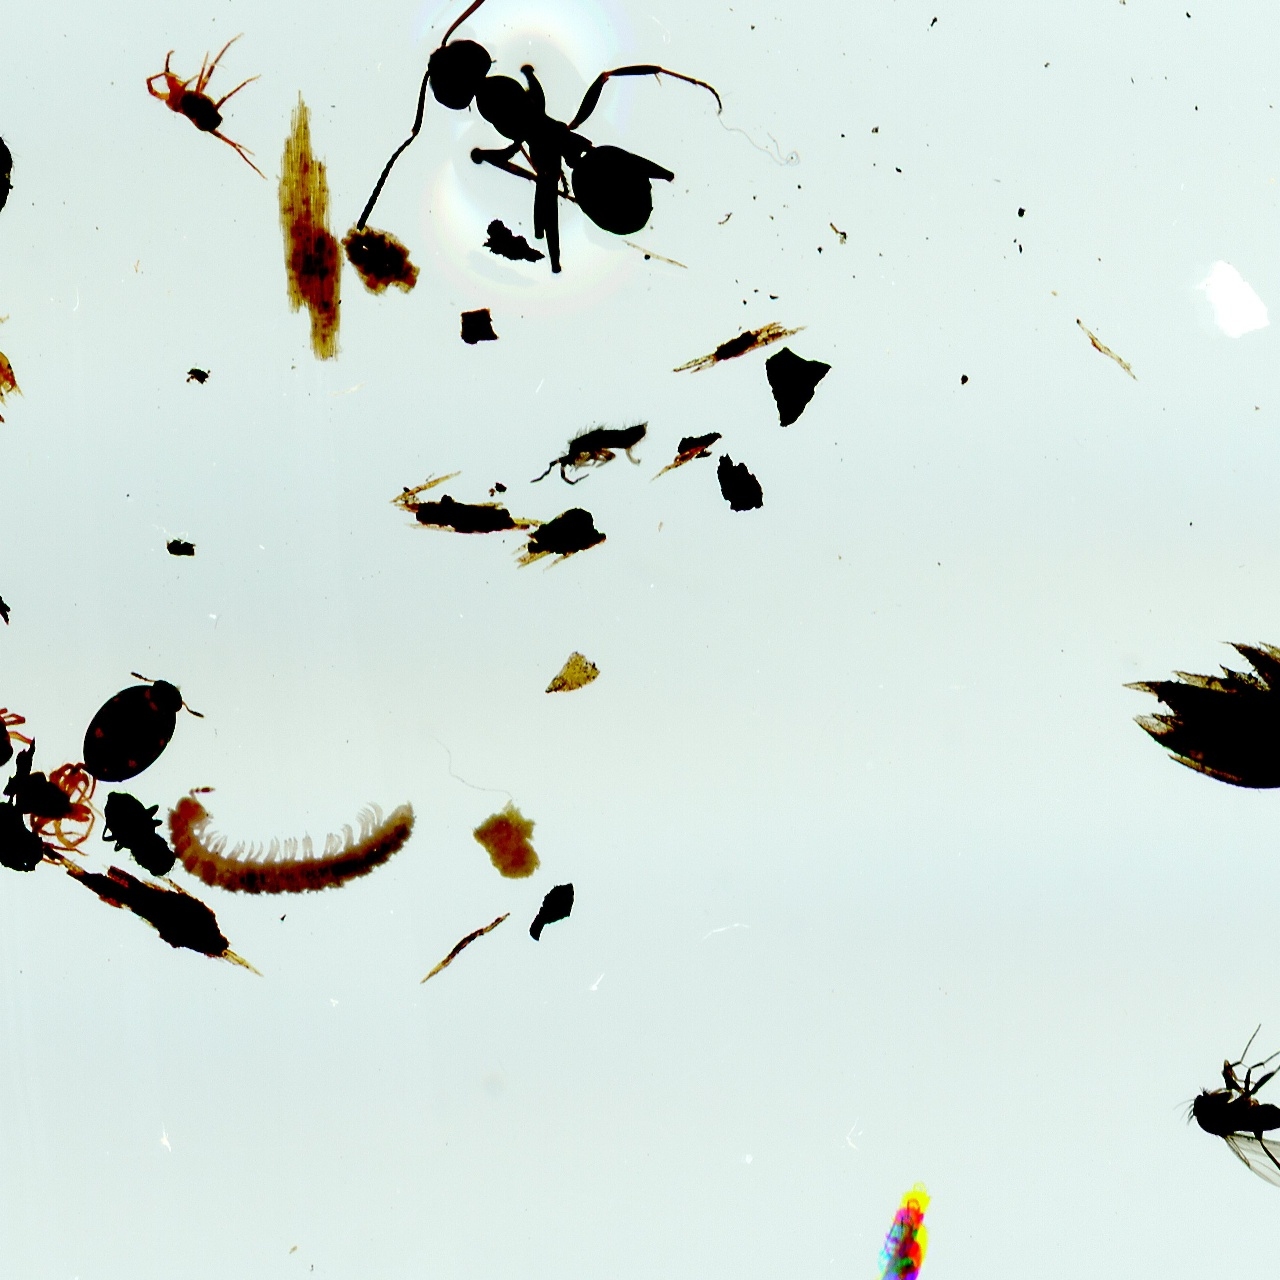arthropod: (346, 0, 731, 278), (162, 783, 418, 900), (1167, 995, 1280, 1234), (142, 28, 274, 186), (0, 168, 67, 422), (513, 401, 666, 508), (80, 669, 207, 785), (22, 758, 110, 858), (98, 787, 181, 881), (0, 659, 35, 784), (0, 124, 22, 230)
